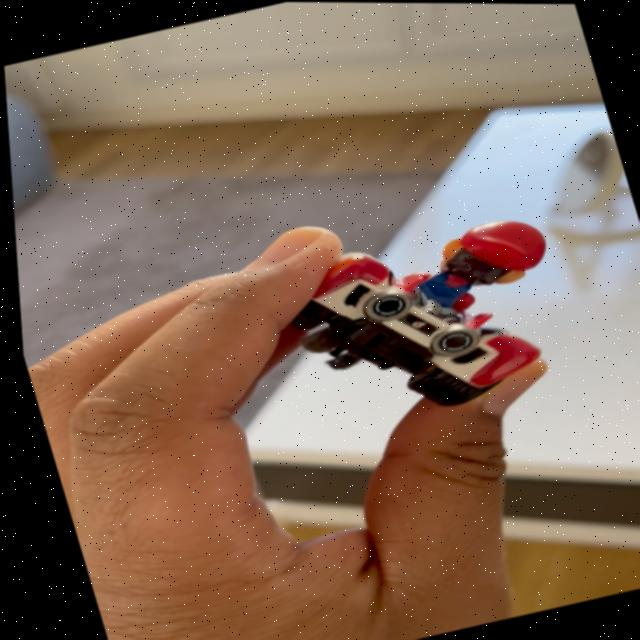mario: (259, 186, 609, 450)
